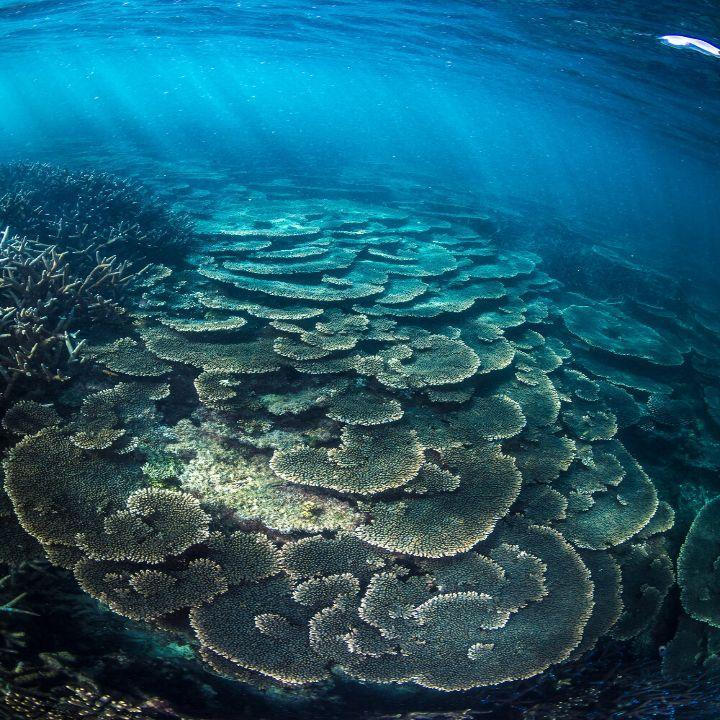Healthy Coral: (8, 163, 673, 688)
